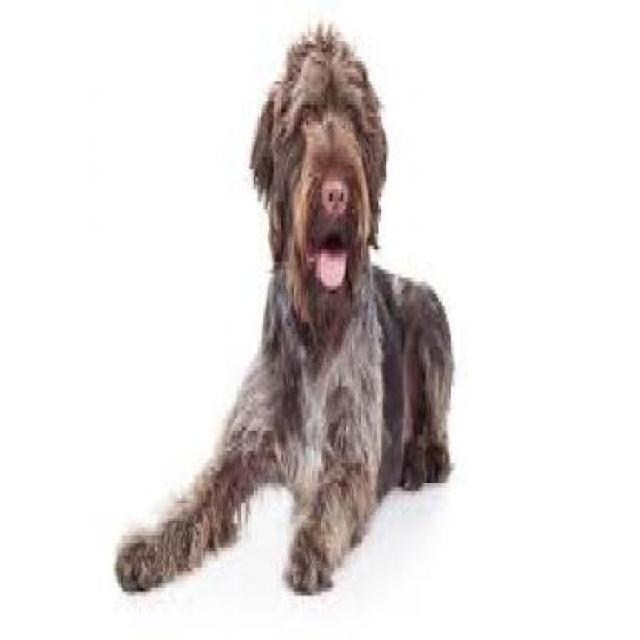animals: (108, 16, 474, 610)
